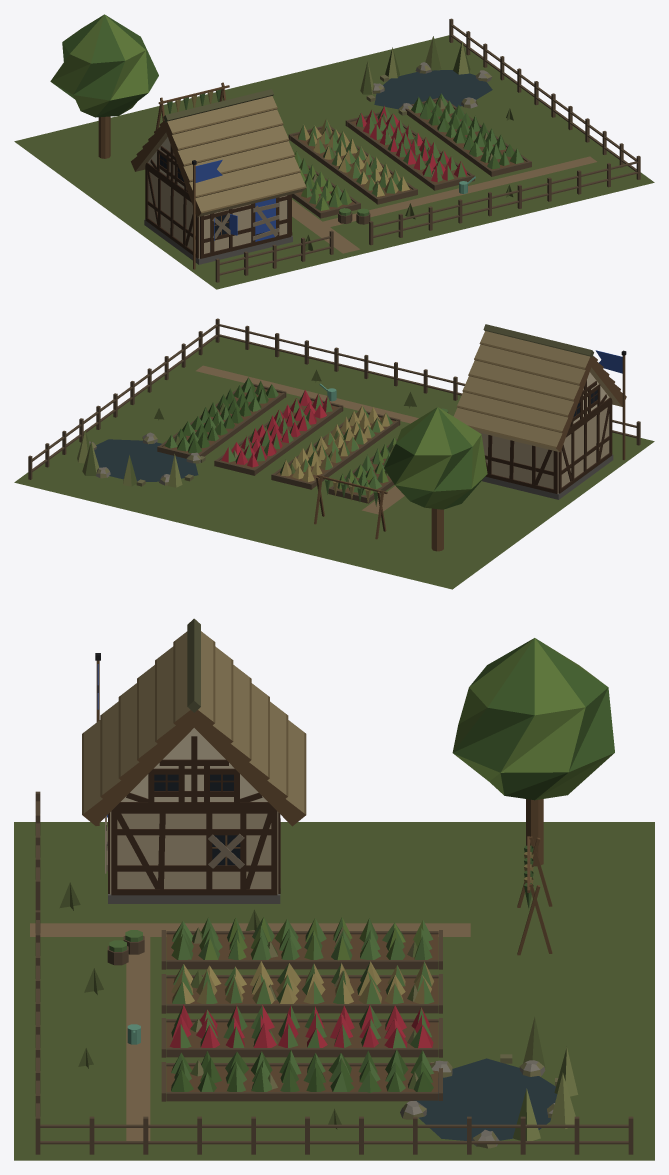
Rendered from kraeutergarten.glb.
The picture shows the model from 3 angles, top to bottom: view 1: azimuth 30°, elevation 25°; view 2: azimuth 150°, elevation 25°; view 3: azimuth 270°, elevation 25°; orthographic projection. The views are drawn at different scales.
Parts seen in each view (by area): view 1: Haus, Arbeit, Leerstand, Fahne; view 2: Haus, Arbeit, Fahne, Leerstand; view 3: Haus, Arbeit, Leerstand.
Part boxes in pixels (<box>): Haus: <box>14,14,654,289</box>; Arbeit: <box>155,74,523,224</box>; Leerstand: <box>212,98,513,251</box>; Fahne: <box>192,159,222,269</box>; Haus: <box>14,318,654,589</box>; Arbeit: <box>136,377,453,539</box>; Fahne: <box>595,350,626,460</box>; Leerstand: <box>154,369,416,487</box>; Haus: <box>14,618,654,1160</box>; Arbeit: <box>107,836,558,1092</box>; Leerstand: <box>59,816,418,1129</box>.
Size of the model in its own units: 20 by 6.25 by 16.
